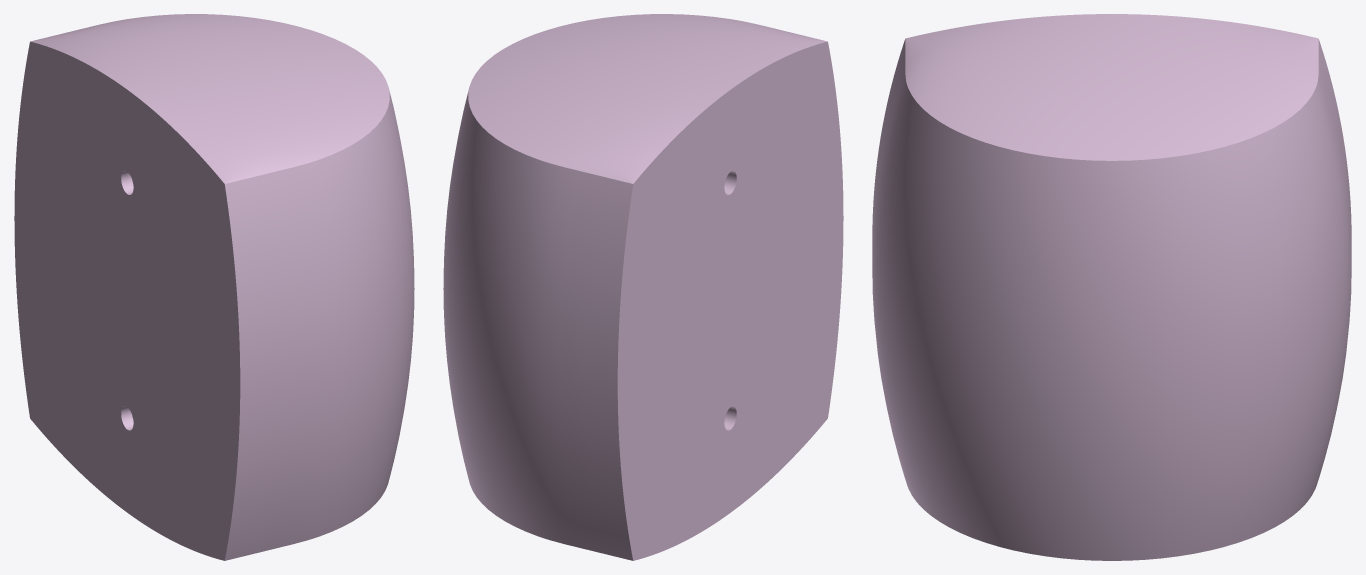
Rendered from OUTFITTING_INTERIOR__EXT. INSTRUMENTS__FWD MAST__HV2__INSTRUMENTS__Steaming light__SL surfs.glb.
3 views of the same model, side by side, from view 1: azimuth 30°, elevation 25°; view 2: azimuth 150°, elevation 25°; view 3: azimuth 270°, elevation 25° (orthographic). The views are drawn at different scales.
Visible parts, largest first — view 1: SL surfs; view 2: SL surfs; view 3: SL surfs.
Boxes of the visible parts, <box> form: SL surfs: <box>14,14,414,560</box>; SL surfs: <box>443,14,843,560</box>; SL surfs: <box>872,14,1351,560</box>.
Size of the model in its own units: 0.0572 by 0.0899 by 0.087.
